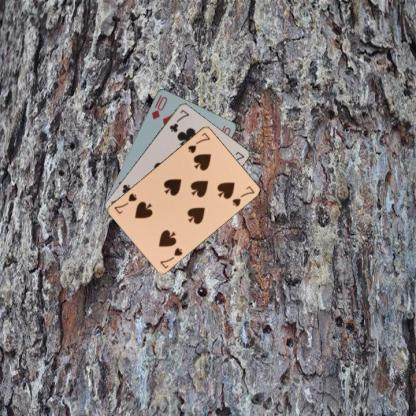10d: (149, 92, 169, 120)
7c: (166, 106, 191, 134)
7s: (157, 244, 184, 270), (186, 130, 212, 154)
